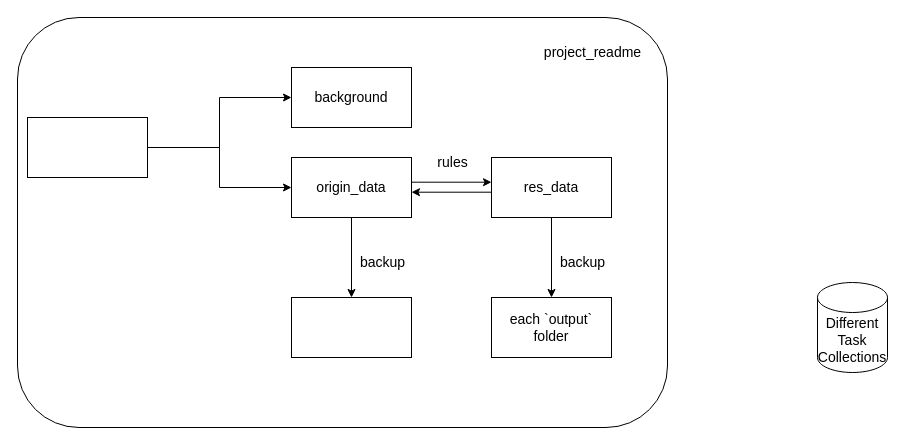
Some shapes in this 905 by 445 pixel diagram are drawn without their labels. Each missing label, with the centre of its shape:
"batch_readme" goes at [87,147].
"each `input` folder" goes at [351,327].
